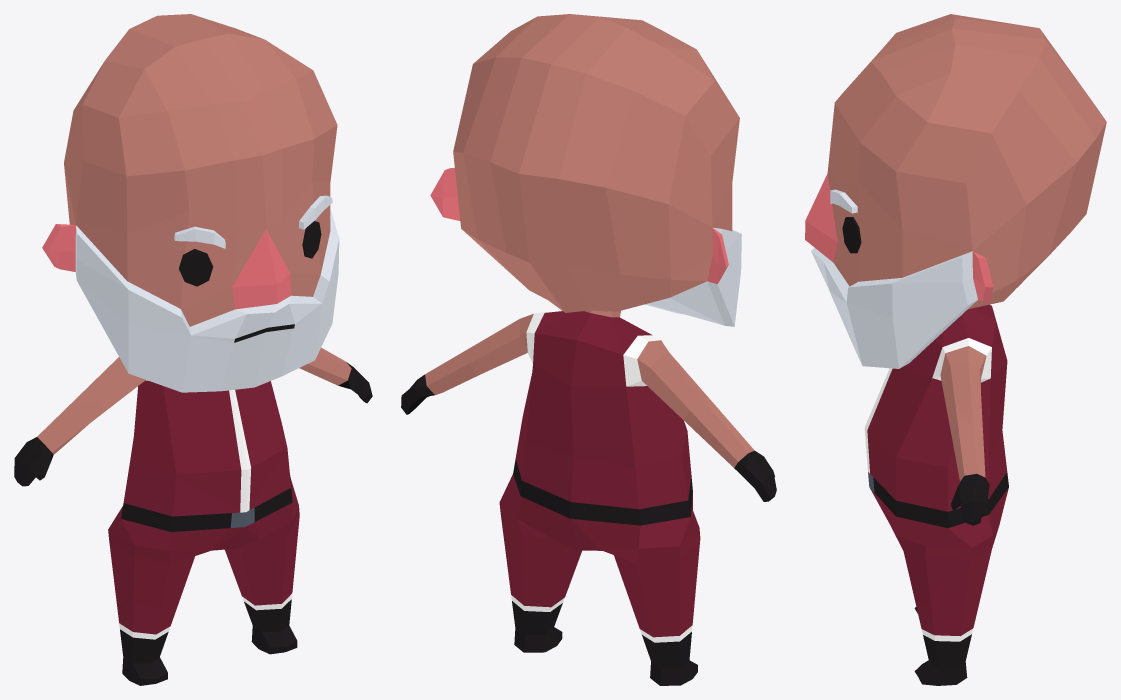
File: grandpa.glb
3 renders of one model, left to right at view 1: azimuth 30°, elevation 25°; view 2: azimuth 150°, elevation 25°; view 3: azimuth 270°, elevation 25°, orthographic. The views are drawn at different scales.
Visible parts, largest first — view 1: Object_4; view 2: Object_4; view 3: Object_4.
Boxes of the visible parts, x1,y1,x2,y2 form: Object_4: [14, 14, 372, 685]; Object_4: [401, 14, 776, 685]; Object_4: [805, 14, 1106, 685].
Size of the model in its own units: 2 by 3.33 by 1.48.
1 material, 1 textured.
